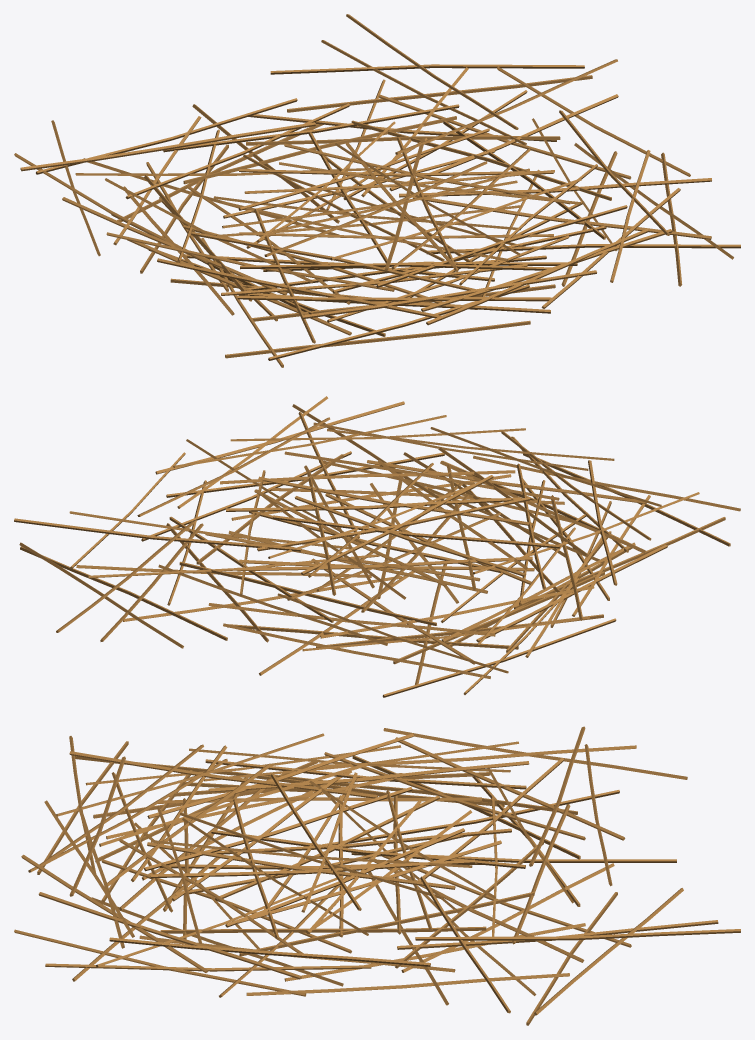
The model's file is harvested_wheat.gltf.
3 views of the same model, one above another, from view 1: azimuth 30°, elevation 25°; view 2: azimuth 150°, elevation 25°; view 3: azimuth 270°, elevation 25° (orthographic). The views are drawn at different scales.
Visible parts, largest first — view 1: Harvested Wheat; view 2: Harvested Wheat; view 3: Harvested Wheat.
Boxes of the visible parts, bbox=[...] form: Harvested Wheat: bbox=[14, 14, 740, 367]; Harvested Wheat: bbox=[14, 396, 740, 697]; Harvested Wheat: bbox=[14, 726, 740, 1025].
Size of the model in its own units: 2.48 by 0.1171 by 2.6.
